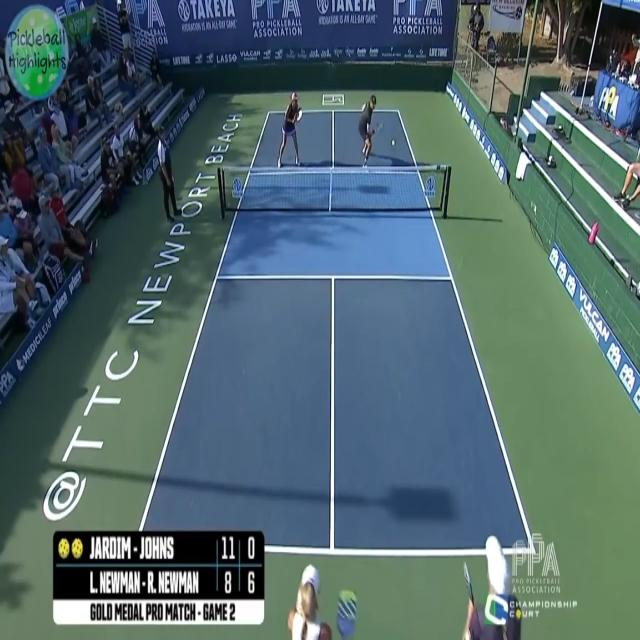ball: (386, 132, 397, 154)
